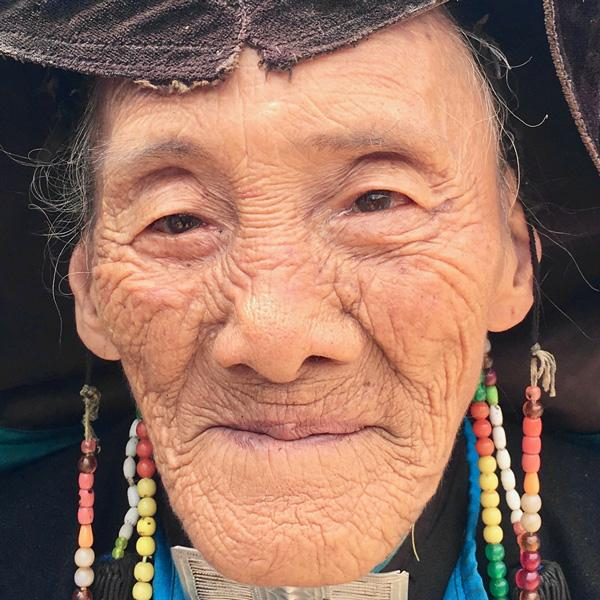Eyes: (128, 182, 234, 264), (323, 168, 436, 240)
